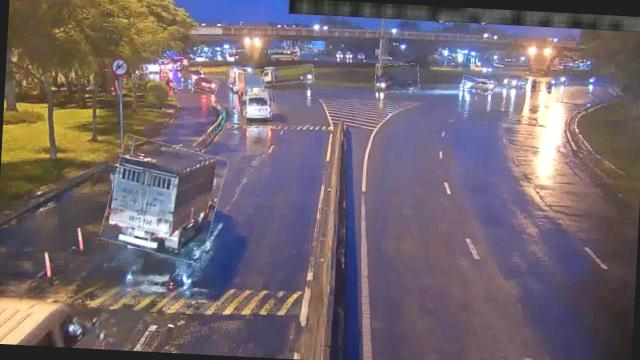Bus: (245, 88, 273, 119)
Car: (460, 76, 494, 93), (192, 76, 218, 93)
Truck: (102, 138, 224, 261), (374, 62, 419, 94), (260, 62, 314, 86), (230, 72, 264, 96)
